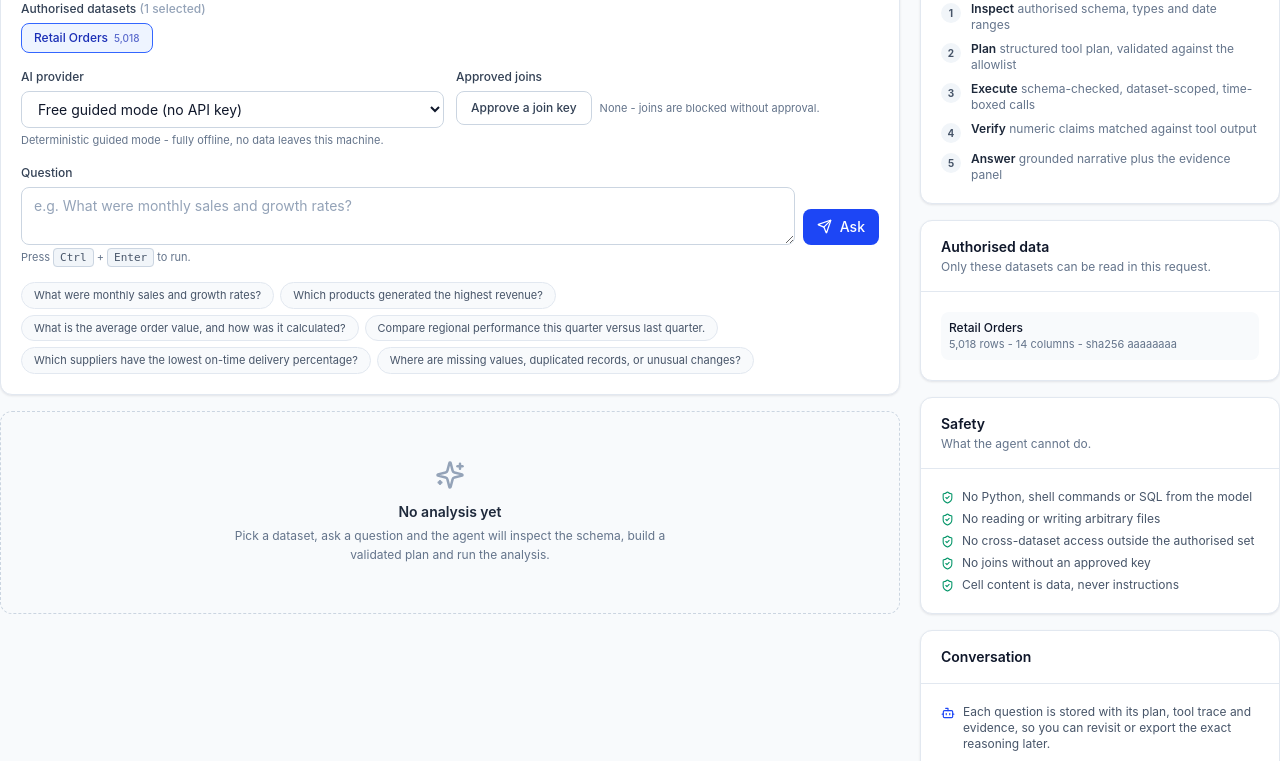
Scenario: Workspace › shows the tool trace and the evidence panel
(page scrolled)
Type "What were monthly sales and growth rates?" into the text box labelled "Question" at (408, 216), box [21,186,795,244]
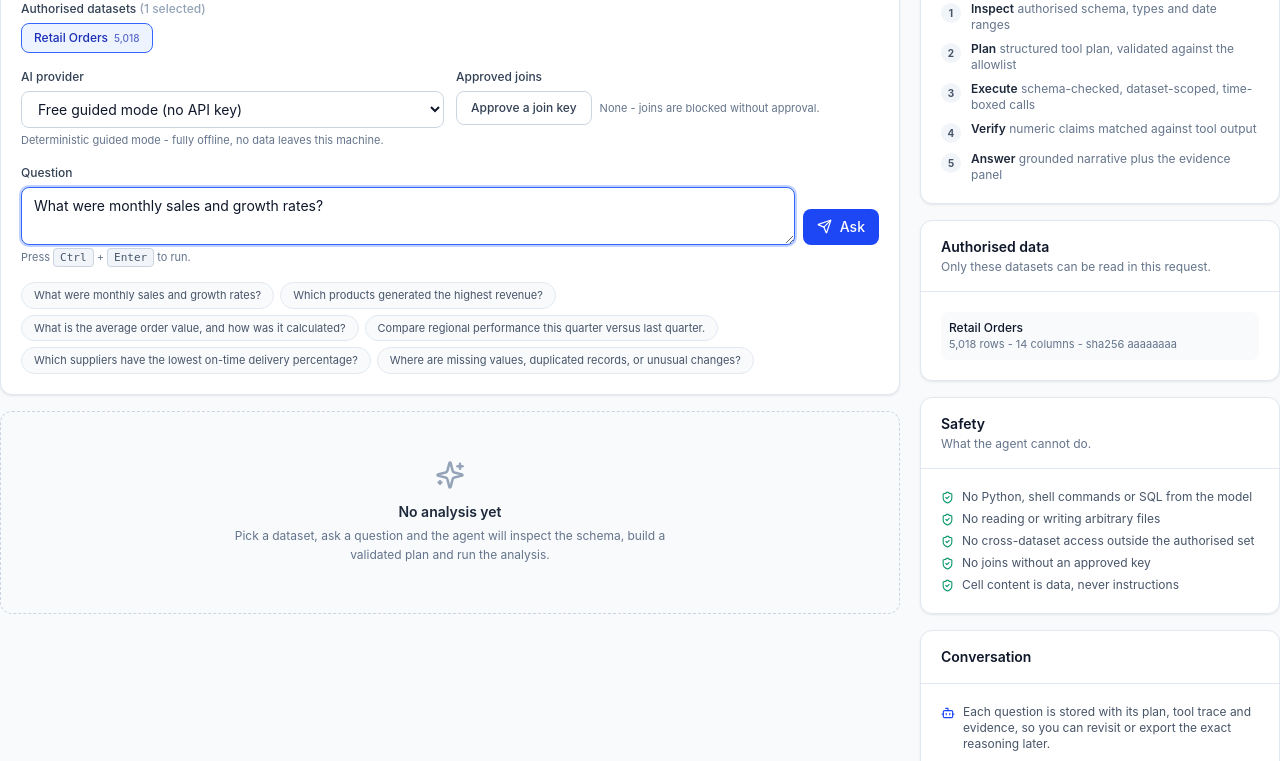
Click the button "Ask" at (841, 226), box [803,208,879,244]
(page scrolled)
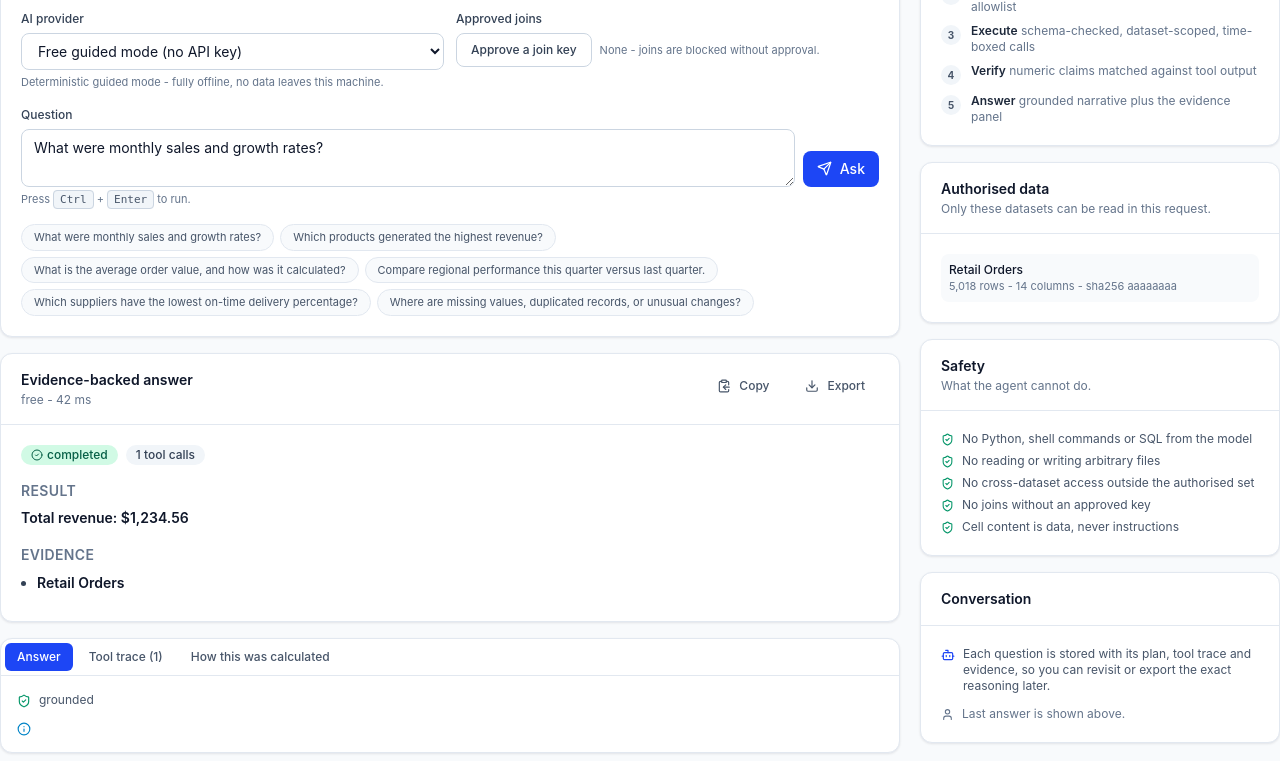
Check: the heading "Evidence-backed answer" is shown, box [21,370,193,390]
Click the button "Tool trace (1)" at (126, 657), box [77,643,175,671]
(page scrolled)
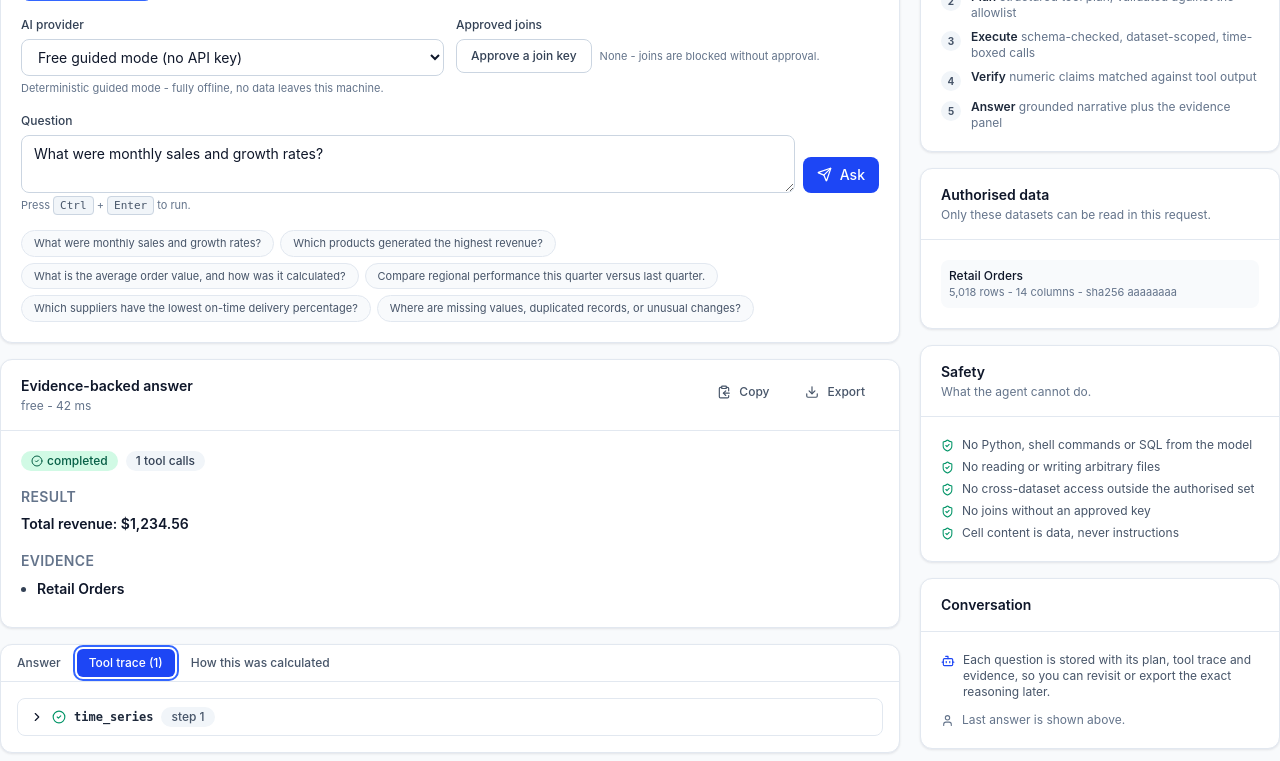
Check: the text "time_series" is shown, box [74,709,154,725]
Click the button "How this was calculated" at (260, 663), box [179,649,342,677]
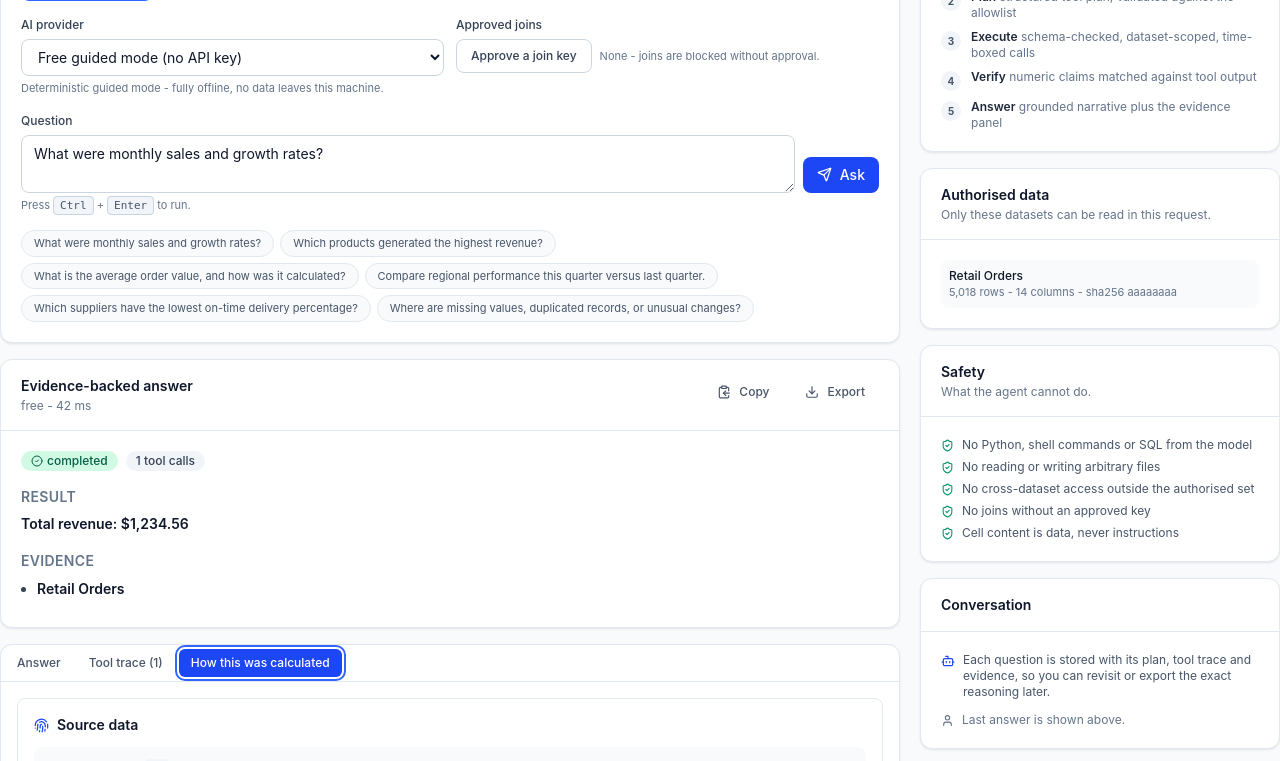
Check: the heading "Source data" is shown, box [34,716,138,733]
